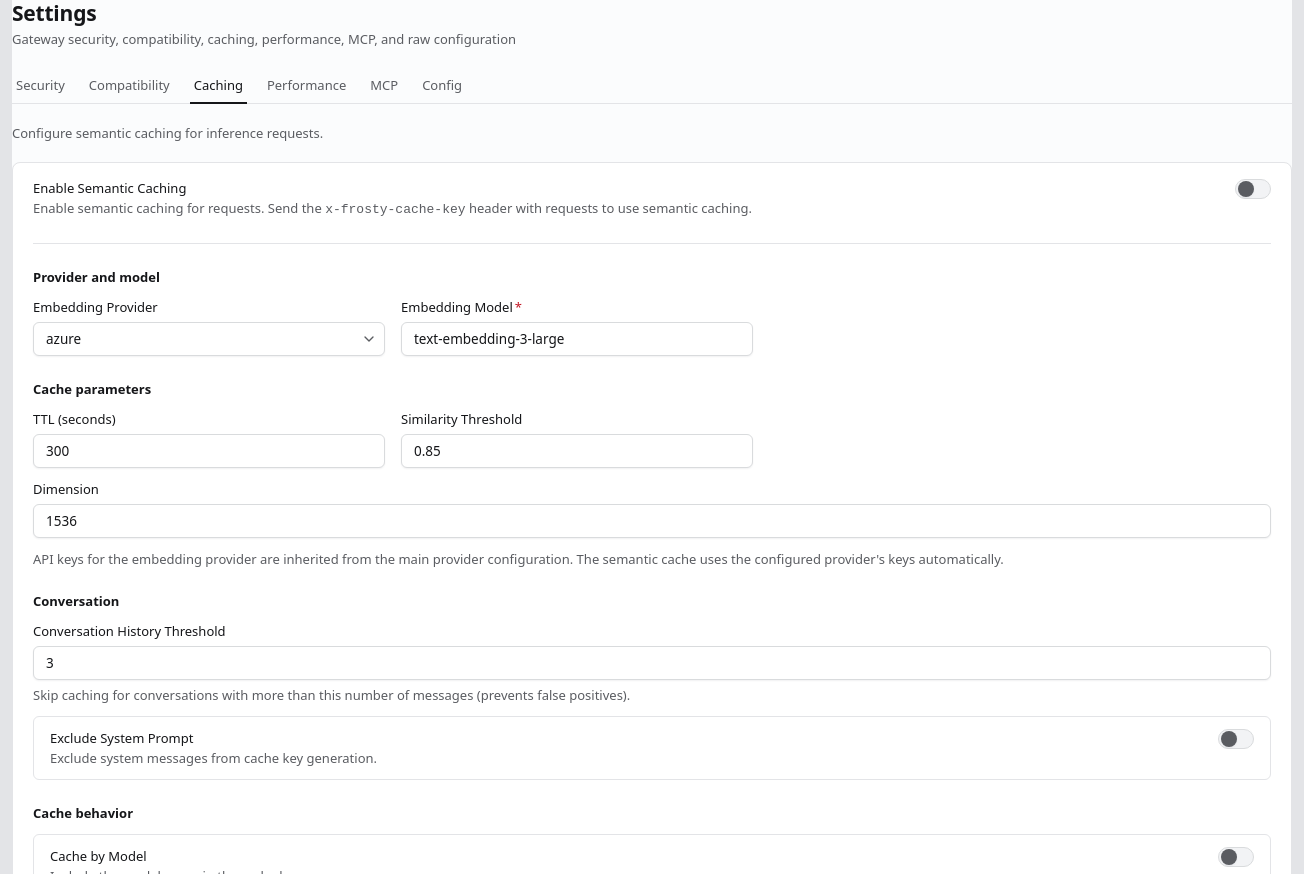
SettingsView caching (Frosty headers, not x-bf-) › saves only changed caching fields
The width and height of the screenshot is (1304, 874).
Click the tab "Caching". click: (218, 86)
box: [190,68,247,104]
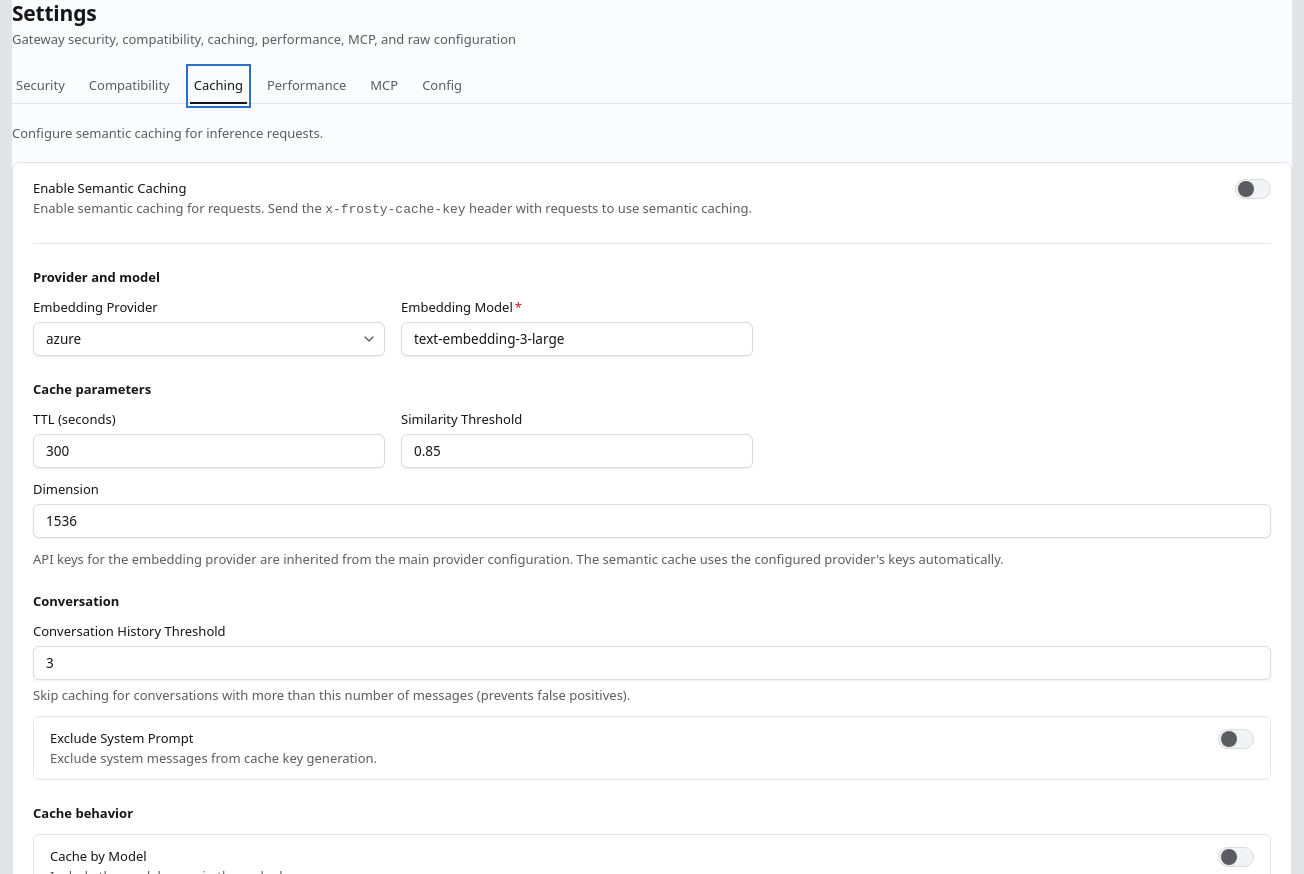
Click the switch named "Enable Semantic Caching". click: (1253, 189)
box: [1235,179,1271,199]
(page scrolled)
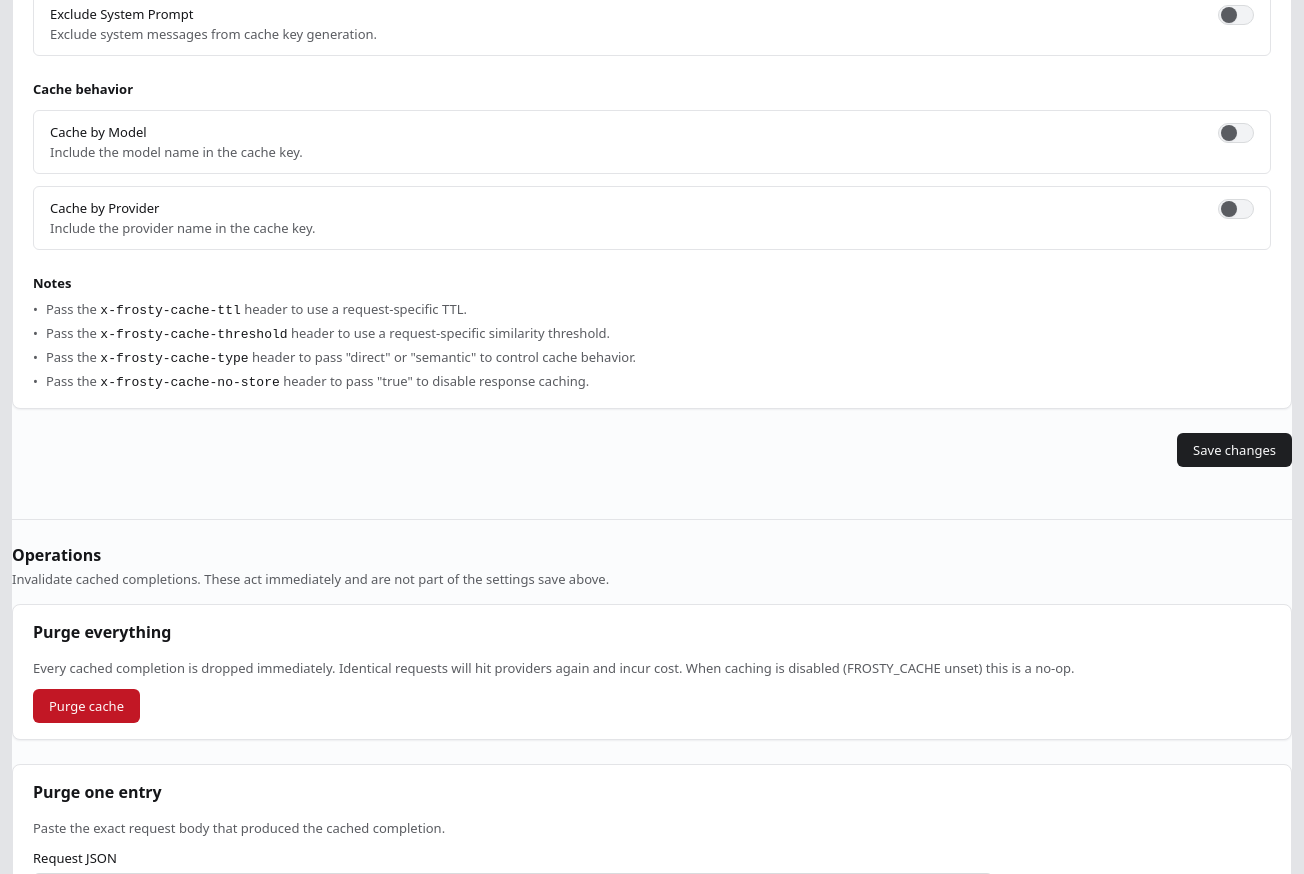
Click the button "Save changes". click: (1235, 450)
box: [1177,433,1292,467]
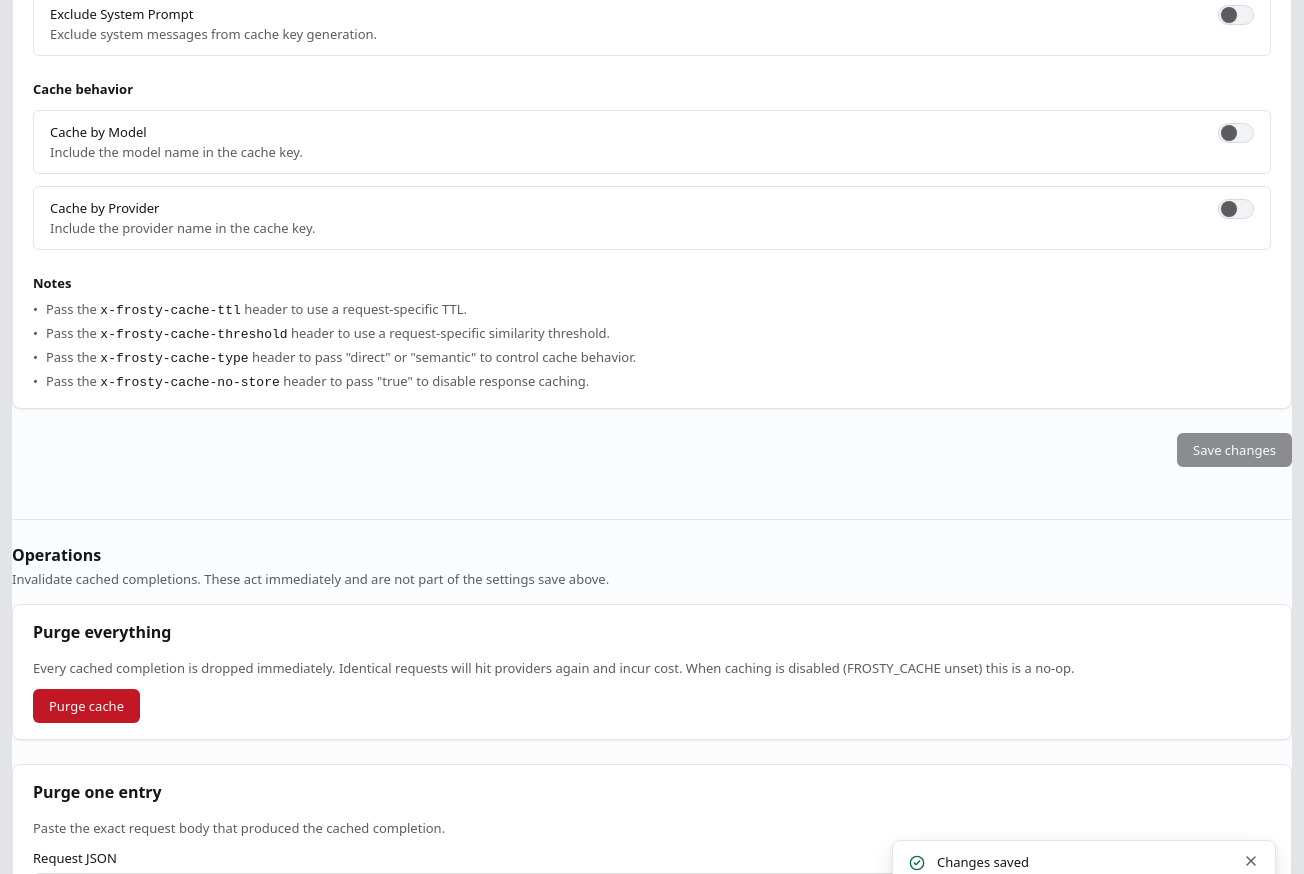
Expected: the text "Changes saved" is shown, [937,853,1029,871]
